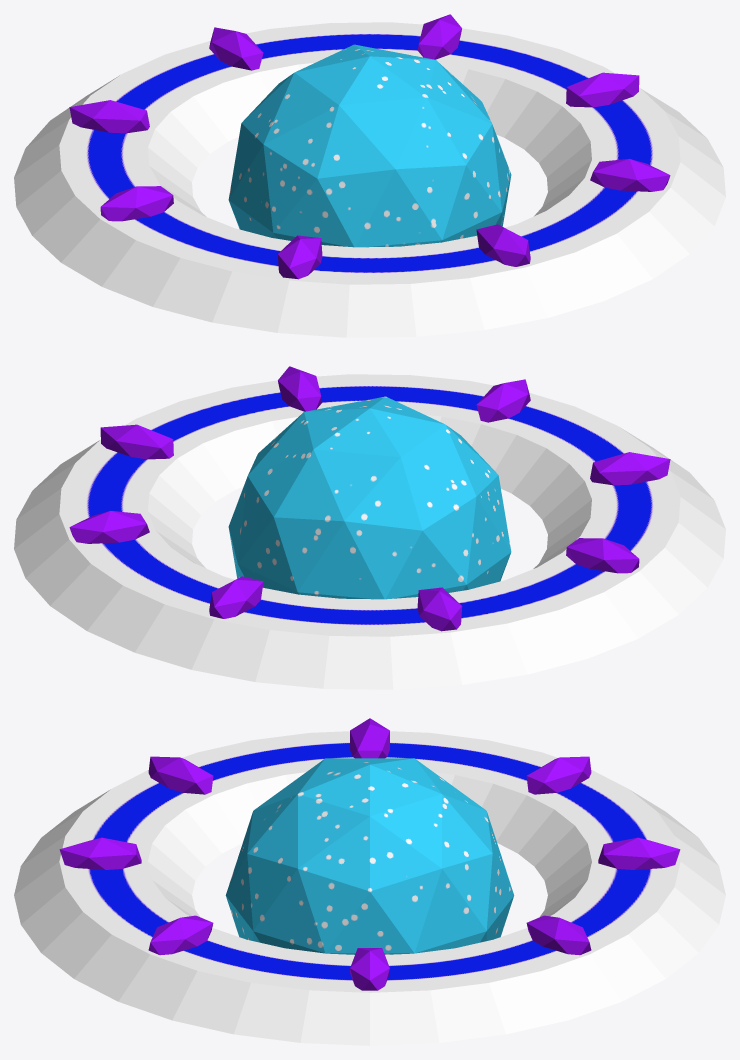
Rendered from Boss.dae.
3 renders of one model, top to bottom at view 1: azimuth 30°, elevation 25°; view 2: azimuth 150°, elevation 25°; view 3: azimuth 270°, elevation 25°, orthographic.
Visible parts, largest first — view 1: Ring, Center, Gems; view 2: Ring, Center, Gems; view 3: Ring, Center, Gems.
Part boxes in pixels (x1,y1,x2,y2): Ring: (14,22,725,337); Center: (228,44,511,247); Gems: (69,14,670,279); Ring: (14,374,725,689); Center: (228,396,511,599); Gems: (69,366,670,631); Ring: (14,731,725,1045); Center: (225,758,514,954); Gems: (59,718,680,990).
Bounding box in the file's own units: 6 × 6 × 2.43.
Materials: 3 (2 with a texture image).
